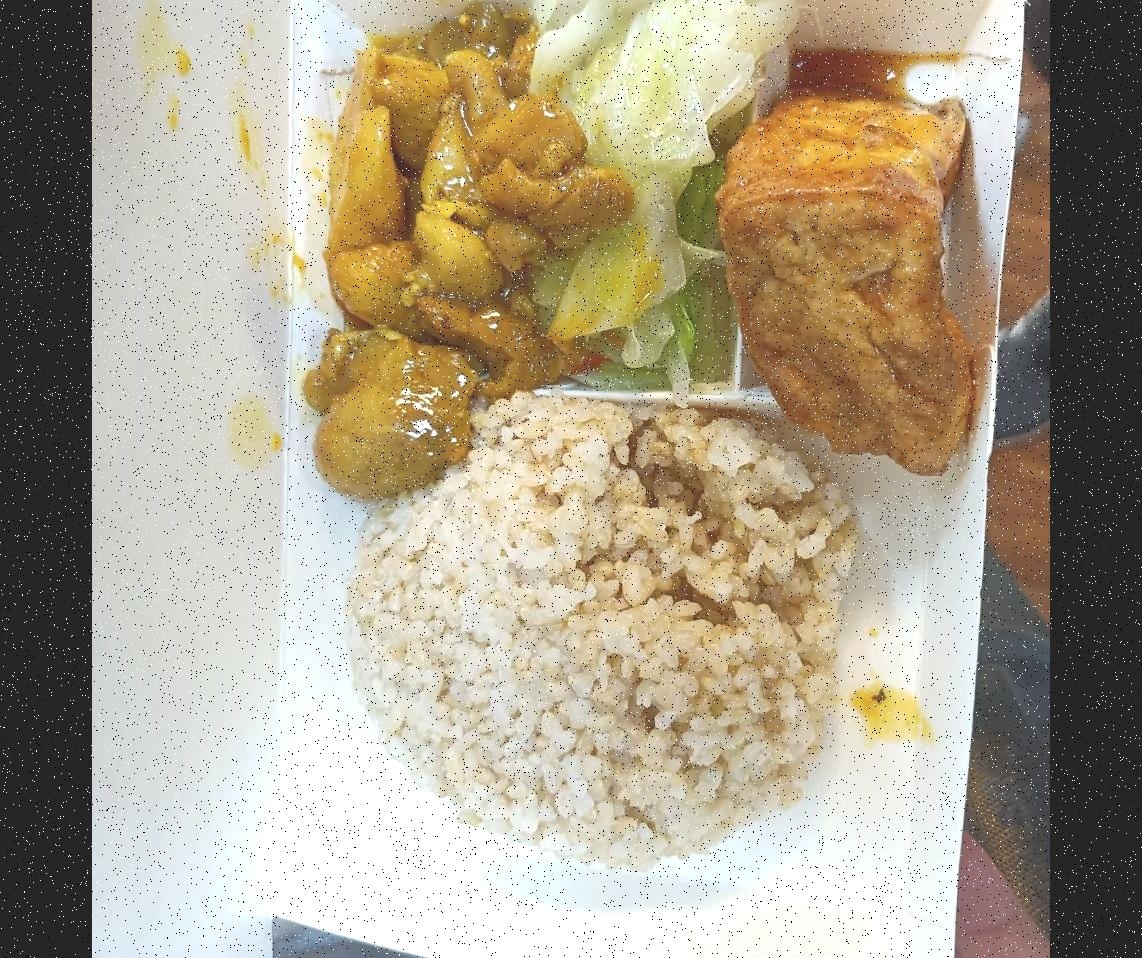box: (226, 0, 1040, 958)
brown rice: (304, 387, 863, 888)
side dish: (291, 0, 592, 496), (702, 54, 996, 492), (496, 0, 772, 406)
